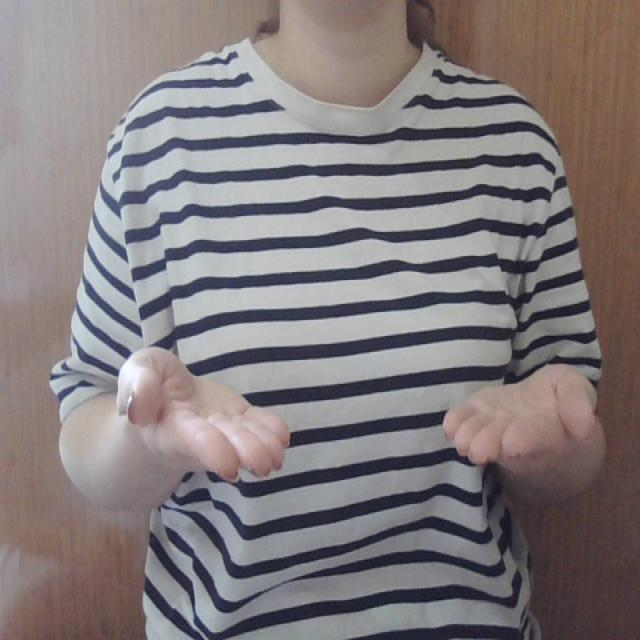Evet: (108, 343, 602, 498)
